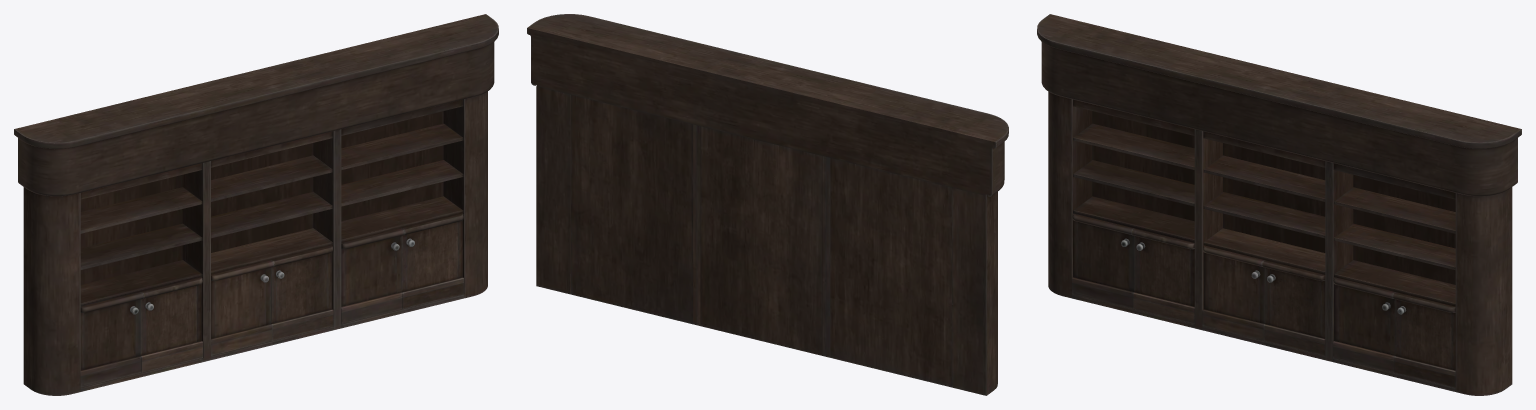
Rendered from cabinet.glb.
The picture shows the model from 3 angles, left to right: view 1: azimuth 30°, elevation 25°; view 2: azimuth 150°, elevation 25°; view 3: azimuth 330°, elevation 25°; orthographic projection.
Visible parts, largest first — view 1: Bar Cabinet_BarCabinet_MTL_0; view 2: Bar Cabinet_BarCabinet_MTL_0; view 3: Bar Cabinet_BarCabinet_MTL_0.
Part boxes in pixels (x1,y1,x2,y2): Bar Cabinet_BarCabinet_MTL_0: (14,14,498,395); Bar Cabinet_BarCabinet_MTL_0: (527,14,1008,395); Bar Cabinet_BarCabinet_MTL_0: (1037,14,1521,395).
Bounding box in the file's own units: 6.14 × 3.2 × 0.625.
1 material, 1 textured.
